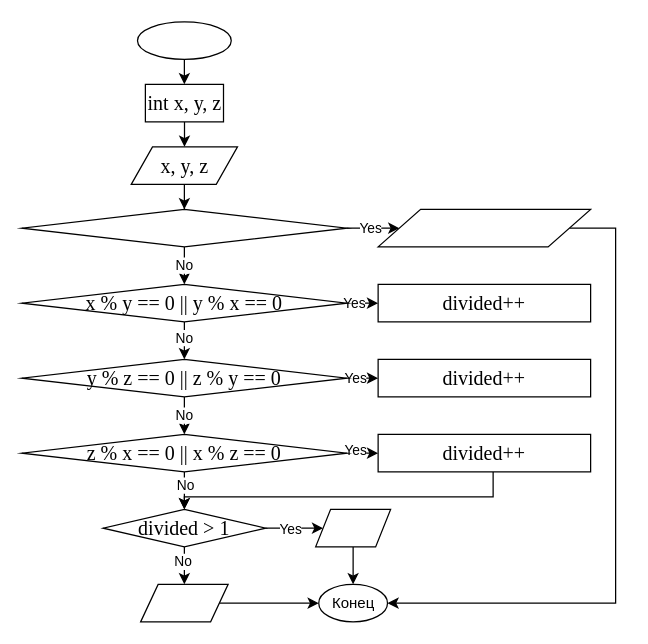
Image size: 648x644. Some labels were removed from this diagram. Each missing label, with the centre of its shape:
"error, delenie na 0"': (x=484, y=227)
"No": (x=183, y=602)
"Yes": (x=352, y=527)
x == 0 || y == 0 || z == 0: (x=184, y=227)
Начало: (x=183, y=40)
